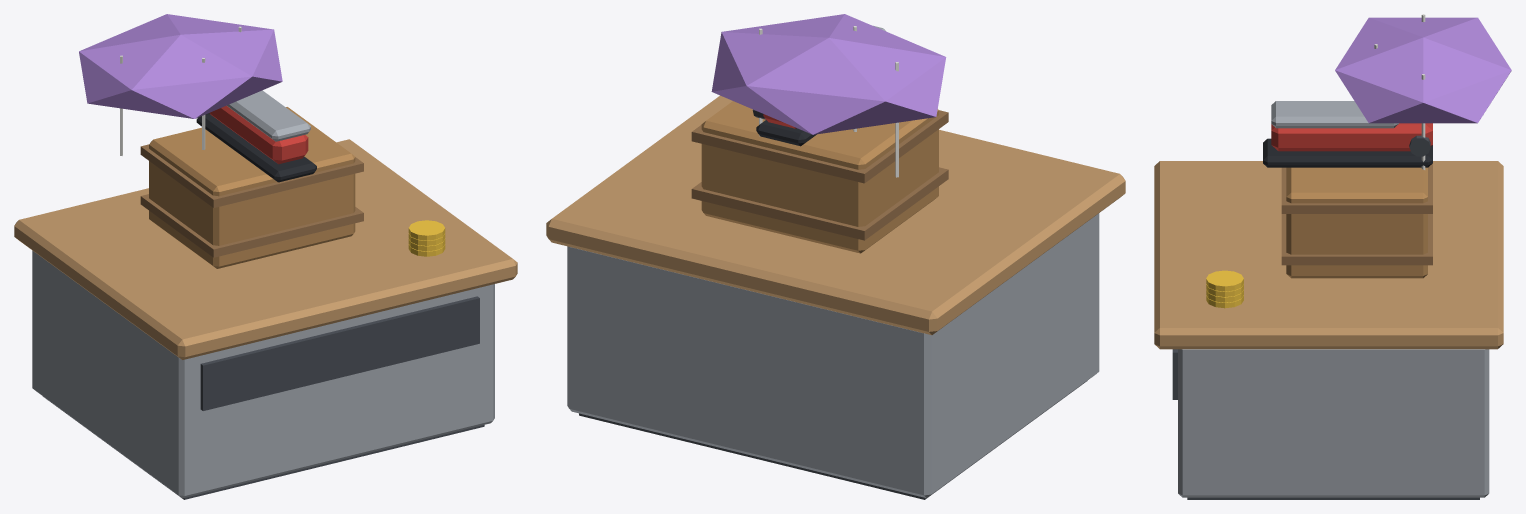
The model's file is artillery_p2_4.glb.
3 views of the same model, side by side, from view 1: azimuth 30°, elevation 25°; view 2: azimuth 150°, elevation 25°; view 3: azimuth 270°, elevation 25° (orthographic). The views are drawn at different scales.
Parts seen in each view (by area): view 1: artillery_p2_4_mesh_Desk, artillery_p2_4_mesh; view 2: artillery_p2_4_mesh_Desk, artillery_p2_4_mesh; view 3: artillery_p2_4_mesh_Desk, artillery_p2_4_mesh.
Part boxes in pixels (x1=…): artillery_p2_4_mesh_Desk: x1=14, y1=139, x2=517, y2=499; artillery_p2_4_mesh: x1=79, y1=14, x2=445, y2=268; artillery_p2_4_mesh_Desk: x1=546, y1=95, x2=1125, y2=499; artillery_p2_4_mesh: x1=691, y1=14, x2=948, y2=253; artillery_p2_4_mesh_Desk: x1=1154, y1=161, x2=1503, y2=499; artillery_p2_4_mesh: x1=1206, y1=14, x2=1511, y2=308.
Size of the model in its own units: 0.86 by 0.857 by 0.7571.
